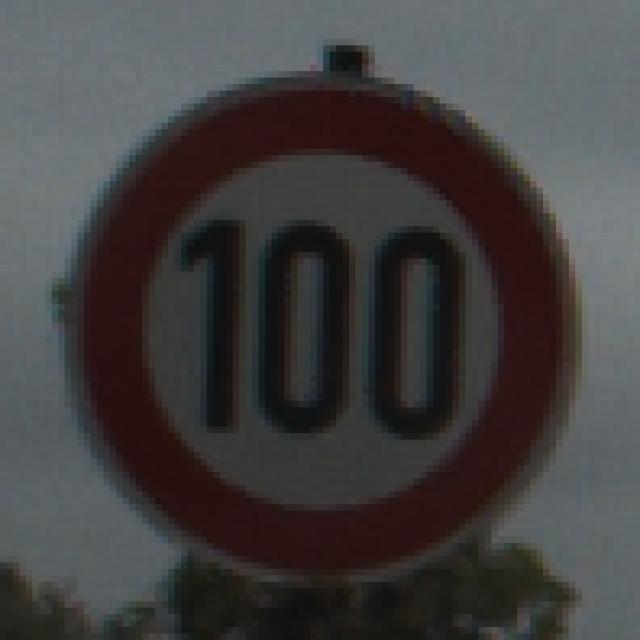speed limit 100: (65, 71, 571, 584)
